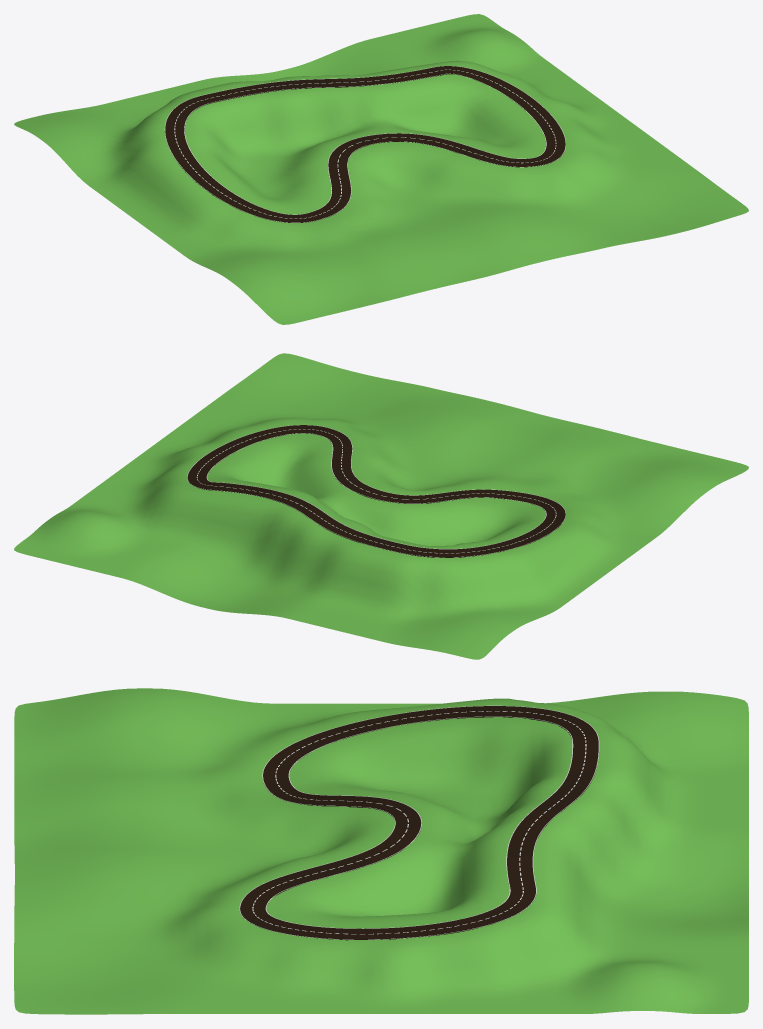
The model's file is SimpleMap_Lowered.fbx.
The picture shows the model from 3 angles, top to bottom: view 1: azimuth 30°, elevation 25°; view 2: azimuth 150°, elevation 25°; view 3: azimuth 270°, elevation 25°; orthographic projection. The views are drawn at different scales.
Visible parts, largest first — view 1: Ground, Road; view 2: Ground, Road; view 3: Ground, Road.
Boxes of the visible parts, x1,y1,x2,y2 form: Ground: (14, 14, 748, 324); Road: (164, 66, 565, 222); Ground: (14, 353, 748, 659); Road: (187, 425, 565, 557); Ground: (14, 688, 748, 1014); Road: (239, 705, 599, 940).
Bounding box in the file's own units: 41000 × 4321 × 40849.
